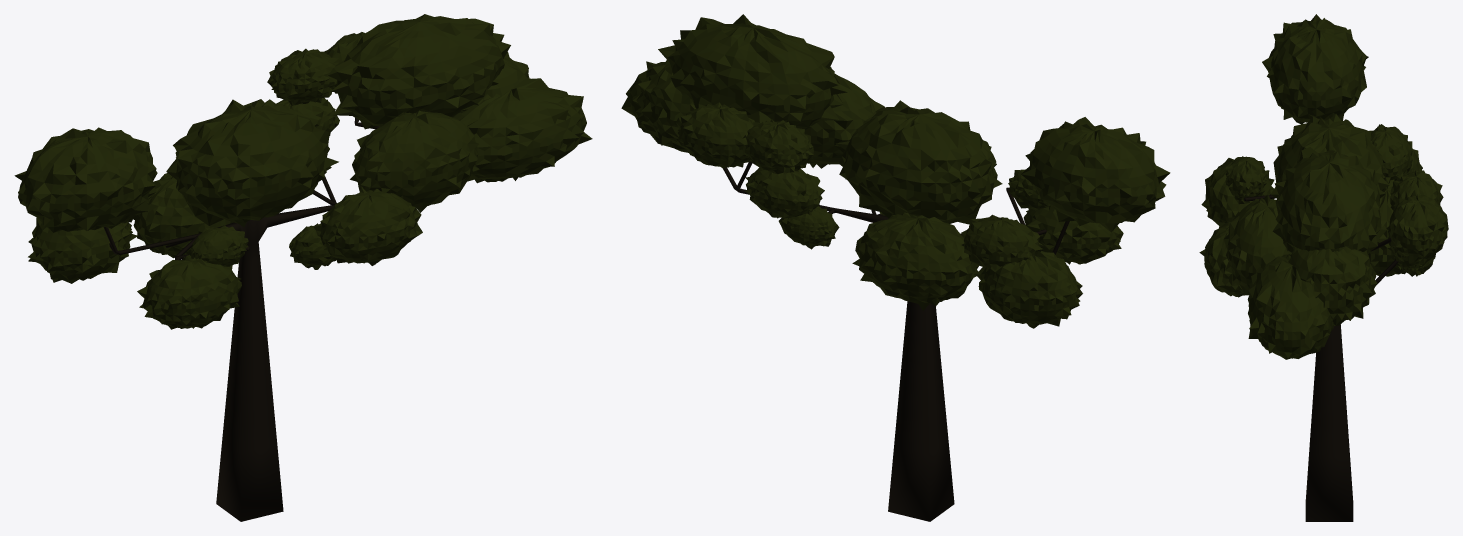
The model's file is drzewo6.obj.
The picture shows the model from 3 angles, left to right: view 1: azimuth 30°, elevation 25°; view 2: azimuth 150°, elevation 25°; view 3: azimuth 270°, elevation 25°; orthographic projection. The views are drawn at different scales.
Visible parts, largest first — view 1: liscie, liscie.002, Cube, liscie.001, liscie.003, liscie.011, liscie.015, liscie.005, liscie.006, liscie.013, liscie.008, liscie.007 (+3 smaller); view 2: liscie, liscie.002, Cube, liscie.001, liscie.013, liscie.006, liscie.009, liscie.005, liscie.014, liscie.011, liscie.012, liscie.008 (+4 smaller); view 3: liscie.002, liscie.001, Cube, liscie.003, liscie.004, liscie, liscie.011, liscie.009, liscie.005, liscie.014, liscie.015, liscie.007 (+4 smaller).
Boxes of the visible parts, x1=… form: liscie: x1=166, y1=99, x2=338, y2=227; liscie.002: x1=327, y1=14, x2=510, y2=129; Cube: x1=104, y1=118, x2=379, y2=521; liscie.001: x1=14, y1=127, x2=157, y2=232; liscie.003: x1=453, y1=78, x2=592, y2=183; liscie.011: x1=350, y1=110, x2=478, y2=212; liscie.015: x1=314, y1=186, x2=422, y2=265; liscie.005: x1=137, y1=255, x2=241, y2=329; liscie.006: x1=28, y1=217, x2=137, y2=283; liscie.013: x1=133, y1=173, x2=233, y2=258; liscie.008: x1=267, y1=48, x2=339, y2=105; liscie.007: x1=188, y1=225, x2=248, y2=266; liscie: x1=836, y1=100, x2=1002, y2=224; liscie.002: x1=658, y1=14, x2=847, y2=128; Cube: x1=723, y1=161, x2=1069, y2=521; liscie.001: x1=1021, y1=117, x2=1170, y2=232; liscie.013: x1=852, y1=212, x2=978, y2=310; liscie.006: x1=974, y1=251, x2=1082, y2=328; liscie.009: x1=676, y1=102, x2=754, y2=168; liscie.005: x1=1023, y1=205, x2=1123, y2=264; liscie.014: x1=961, y1=214, x2=1043, y2=269; liscie.011: x1=804, y1=73, x2=884, y2=168; liscie.012: x1=744, y1=167, x2=824, y2=218; liscie.008: x1=744, y1=119, x2=813, y2=173; liscie.002: x1=1272, y1=147, x2=1385, y2=254; liscie.001: x1=1262, y1=14, x2=1368, y2=124; Cube: x1=1244, y1=194, x2=1398, y2=521; liscie.003: x1=1247, y1=253, x2=1333, y2=359; liscie.004: x1=1288, y1=246, x2=1377, y2=325; liscie: x1=1270, y1=114, x2=1389, y2=198; liscie.011: x1=1223, y1=194, x2=1290, y2=295; liscie.009: x1=1386, y1=190, x2=1448, y2=264; liscie.005: x1=1201, y1=156, x2=1274, y2=225; liscie.014: x1=1369, y1=124, x2=1412, y2=183; liscie.015: x1=1199, y1=222, x2=1244, y2=297; liscie.007: x1=1225, y1=156, x2=1267, y2=201.
Bounding box in the file's own units: 6.25 × 4.87 × 2.55.
